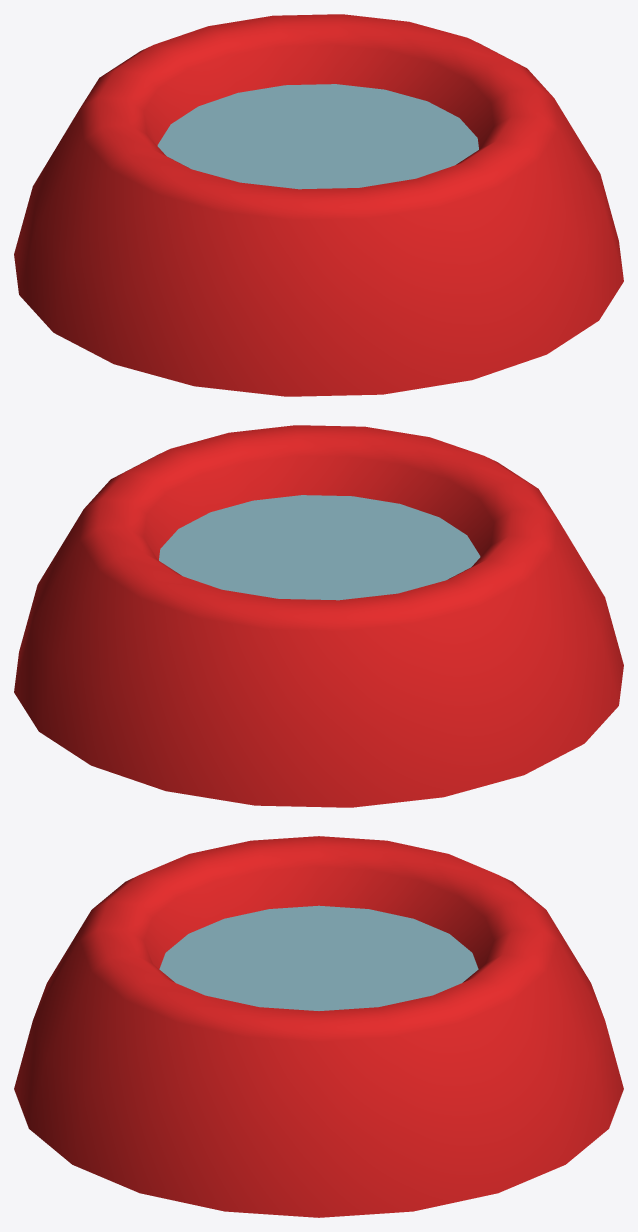
Rendered from Gamelle.fbx.
The picture shows the model from 3 angles, top to bottom: view 1: azimuth 30°, elevation 25°; view 2: azimuth 150°, elevation 25°; view 3: azimuth 270°, elevation 25°; orthographic projection.
Visible parts, largest first — view 1: gamelle; view 2: gamelle; view 3: gamelle.
Part boxes in pixels (x1,y1,x2,y2): gamelle: (14, 14, 623, 396); gamelle: (14, 425, 623, 807); gamelle: (14, 836, 623, 1217).
Bounding box in the file's own units: 2.45 × 0.7062 × 2.45.
